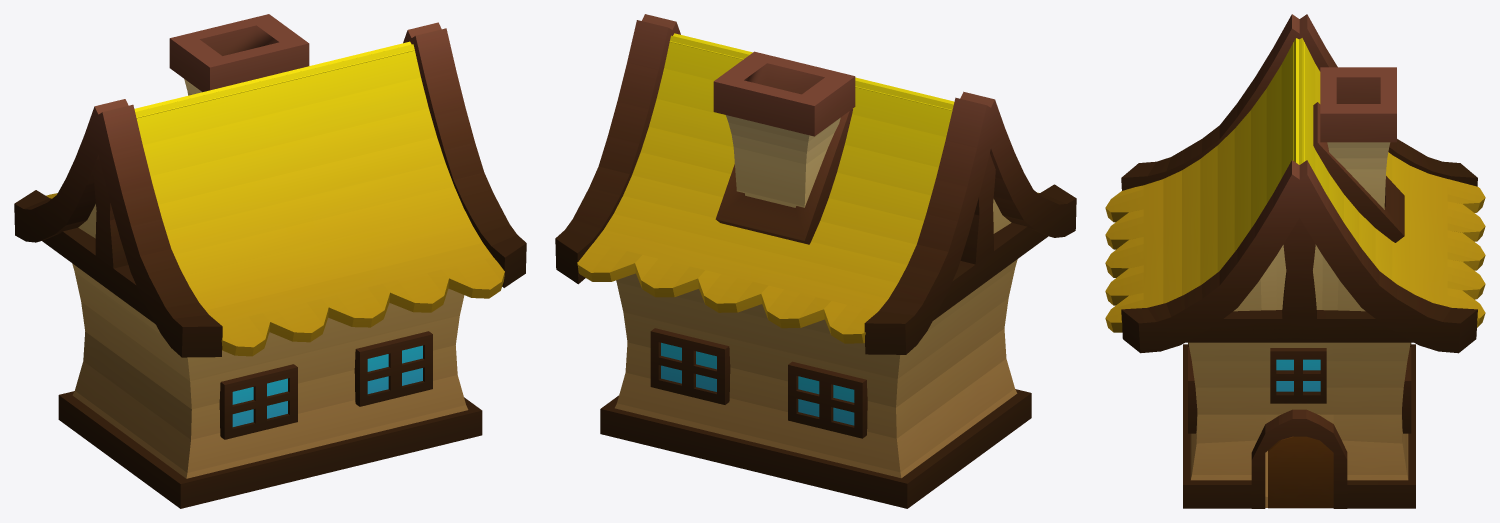
Rendered from village_1.fbx.
The picture shows the model from 3 angles, left to right: view 1: azimuth 30°, elevation 25°; view 2: azimuth 150°, elevation 25°; view 3: azimuth 270°, elevation 25°; orthographic projection. The views are drawn at different scales.
Parts seen in each view (by area): view 1: Prostokąt, Kostka.002, Kostka, Prostokąt.008, Prostokąt.005; view 2: Kostka.002, Prostokąt, Kostka, Prostokąt.008, Prostokąt.005; view 3: Kostka.002, Prostokąt, Kostka, Prostokąt.005, Prostokąt.008.
Boxes of the visible parts, <box> form: Prostokąt: <box>46,41,504,356</box>; Kostka.002: <box>14,14,526,508</box>; Kostka: <box>72,79,468,478</box>; Prostokąt.008: <box>219,331,432,439</box>; Prostokąt.005: <box>232,345,422,426</box>; Kostka.002: <box>555,14,1076,508</box>; Prostokąt: <box>577,33,1038,343</box>; Kostka: <box>615,115,1017,478</box>; Prostokąt.008: <box>650,328,867,438</box>; Prostokąt.005: <box>661,342,854,425</box>; Kostka.002: <box>1121,14,1477,508</box>; Prostokąt: <box>1105,38,1485,332</box>; Kostka: <box>1188,142,1410,507</box>; Prostokąt.005: <box>1268,359,1333,508</box>; Prostokąt.008: <box>1188,343,1411,433</box>.
Size of the model in its own units: 96.65 by 97.73 by 96.87.
Materials: 5 (5 with a texture image).
